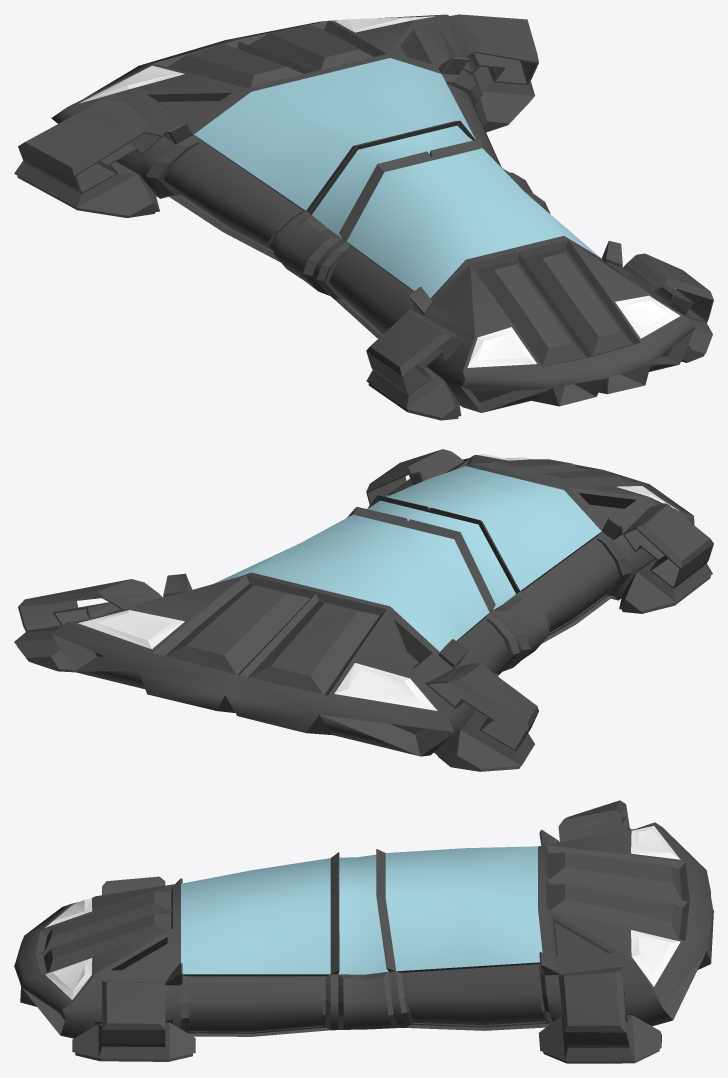
File: HoverCar.FBX
3 views of the same model, one above another, from view 1: azimuth 30°, elevation 25°; view 2: azimuth 150°, elevation 25°; view 3: azimuth 270°, elevation 25° (orthographic). The views are drawn at different scales.
Visible parts, largest first — view 1: Body; view 2: Body; view 3: Body.
Boxes of the visible parts, box(x1,y1,x2,y2) form: Body: box(14, 14, 713, 420); Body: box(14, 449, 713, 771); Body: box(14, 800, 713, 1063).
Size of the model in its own units: 274 by 71.53 by 354.
